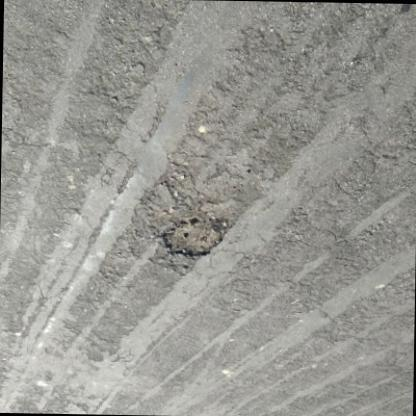pothole: (144, 182, 238, 269)
